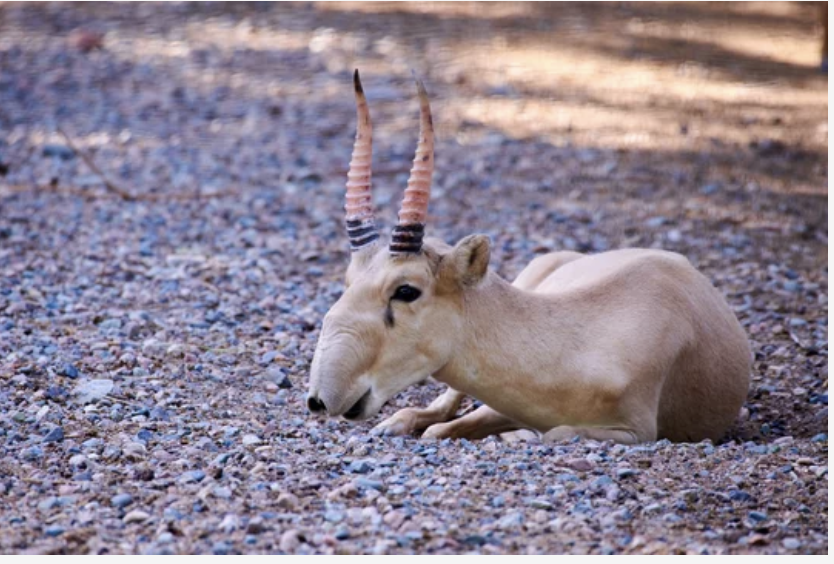saiga: (268, 30, 780, 483)
